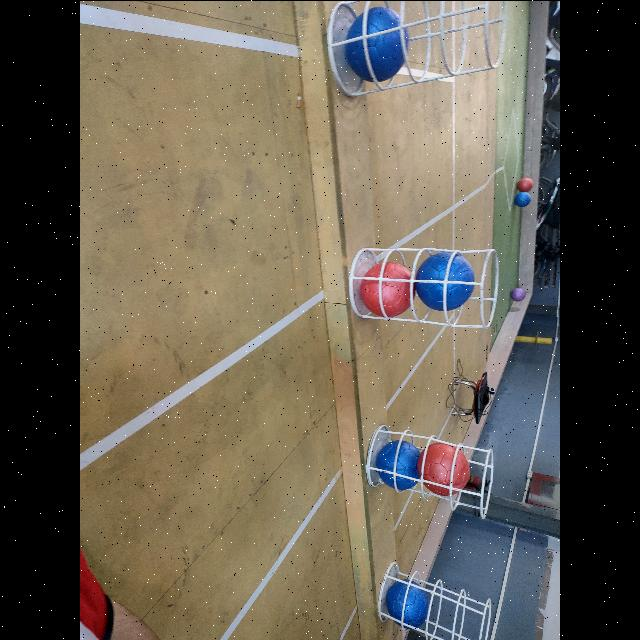B: (345, 7, 409, 81), (413, 252, 475, 312), (376, 440, 422, 490), (386, 578, 429, 628), (514, 192, 532, 206)
R: (359, 262, 416, 318), (418, 442, 469, 496), (518, 178, 534, 190)
